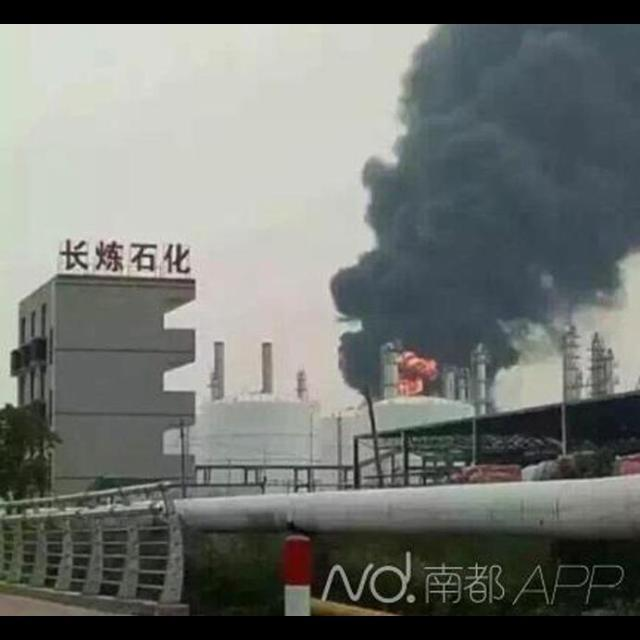Fire: (396, 349, 438, 396)
Smoke: (328, 25, 640, 401)
